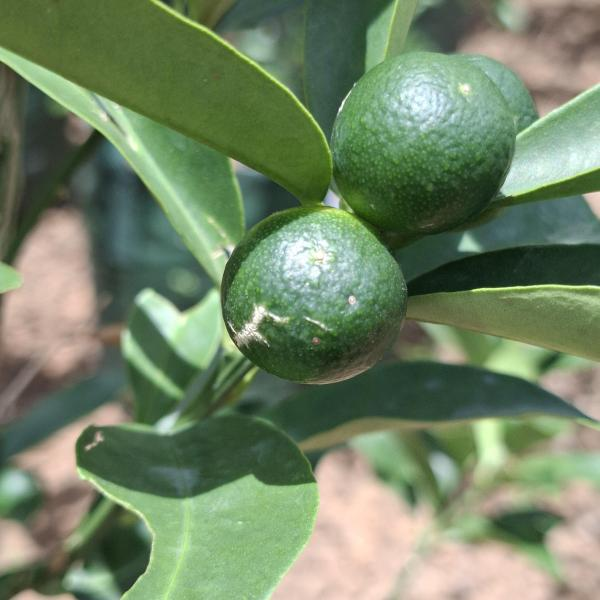Scab: (201, 204, 420, 389), (324, 58, 529, 246)
